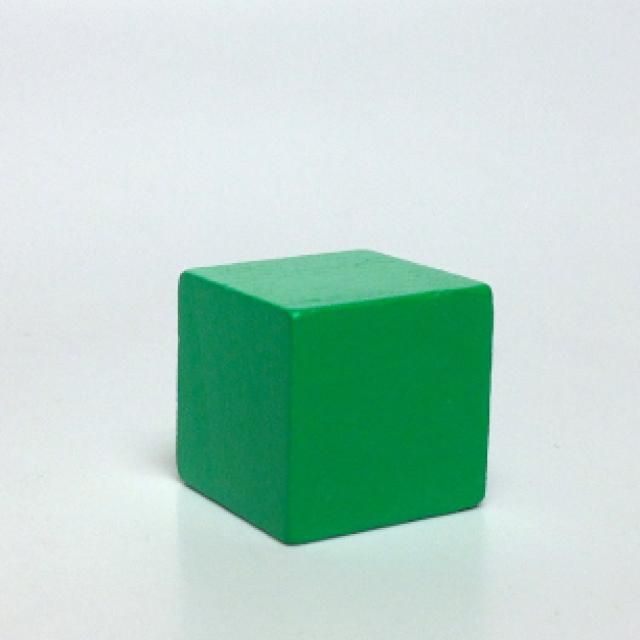green cube: (170, 251, 498, 548)
